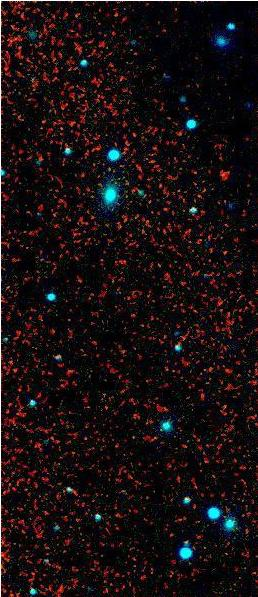star: (208, 161, 238, 191)
